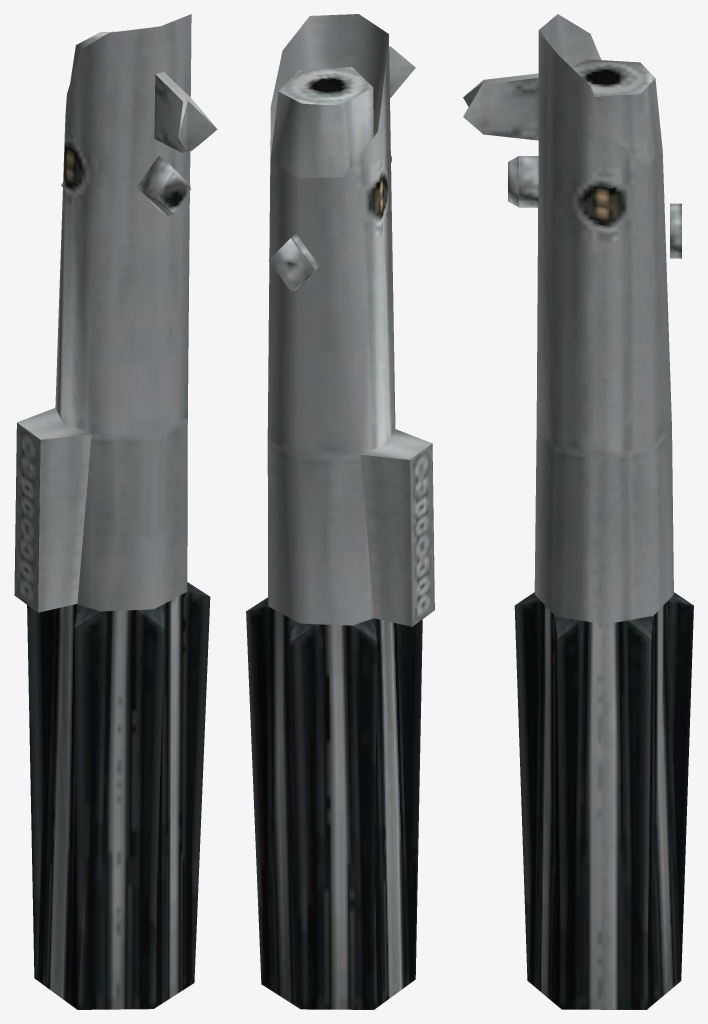
File: wp_mle_2h_sword_lightsaber_anakin_l1.fbx
3 renders of one model, left to right at view 1: azimuth 30°, elevation 25°; view 2: azimuth 150°, elevation 25°; view 3: azimuth 270°, elevation 25°, orthographic. The views are drawn at different scales.
Parts seen in each view (by area): view 1: mesh_node; view 2: mesh_node; view 3: mesh_node.
Part boxes in pixels (x1,y1,x2,y2): mesh_node: (14, 14, 217, 1009); mesh_node: (246, 14, 434, 1009); mesh_node: (463, 14, 693, 1009).
Size of the model in its own units: 0.0477 by 0.2782 by 0.0608.
